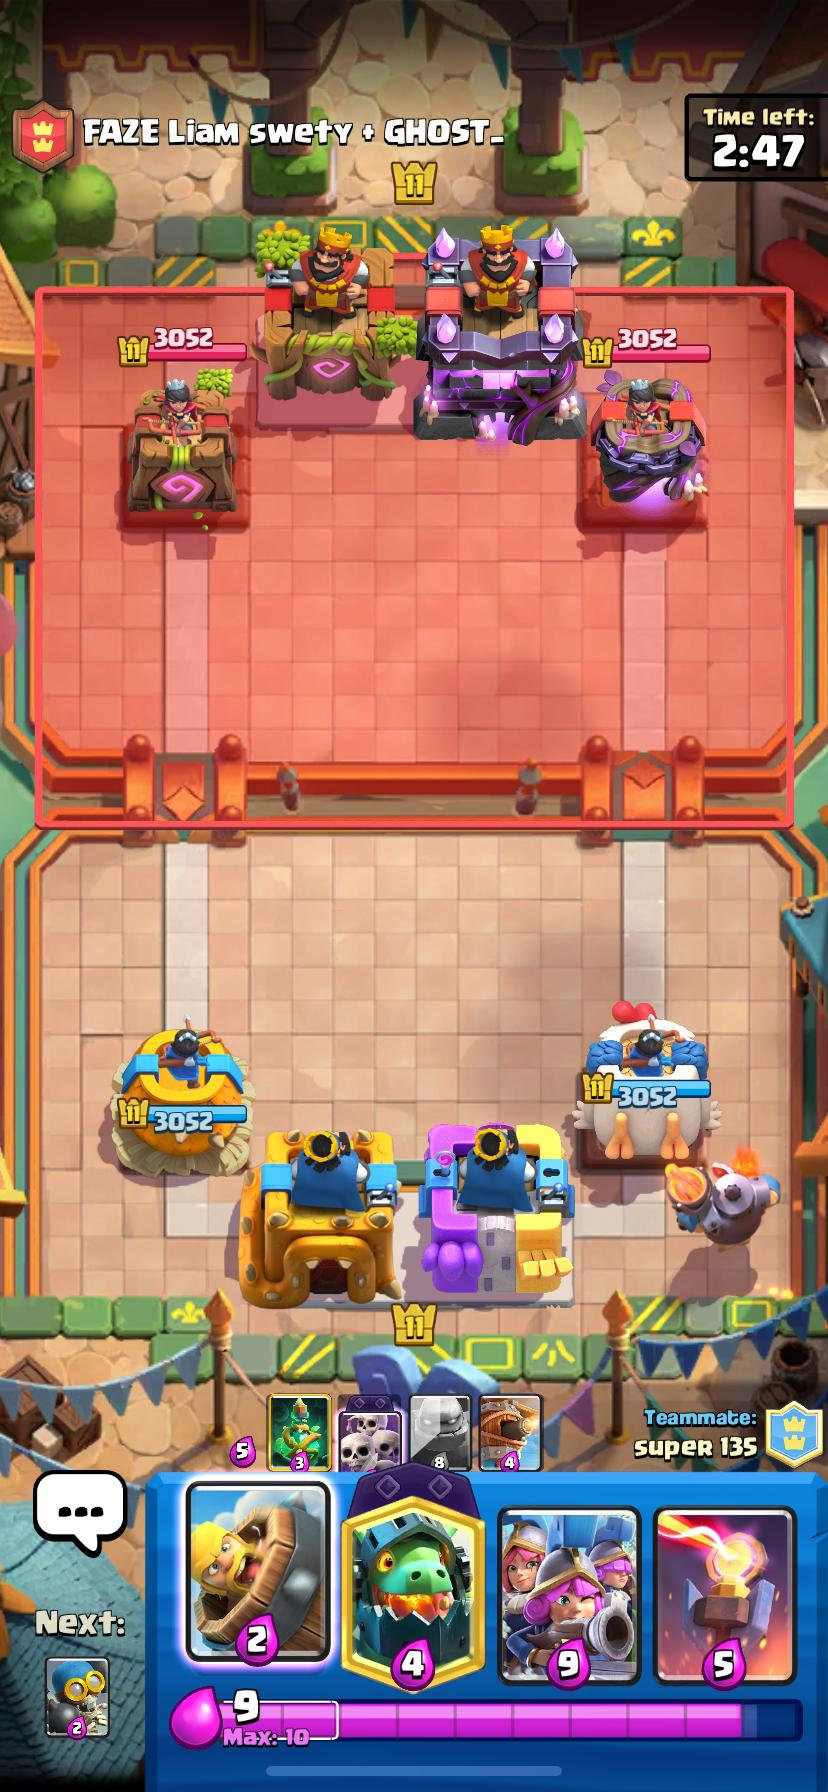EKingTower: (414, 226, 586, 445), (264, 224, 415, 401)
EnemyPrincessTower: (591, 378, 706, 521), (127, 379, 234, 513)
OFurnace: (666, 1147, 779, 1245)
OwnKingTower: (240, 1129, 403, 1306), (419, 1123, 573, 1301)
OwnPrincessTower: (576, 1001, 719, 1165), (111, 1018, 253, 1175)
